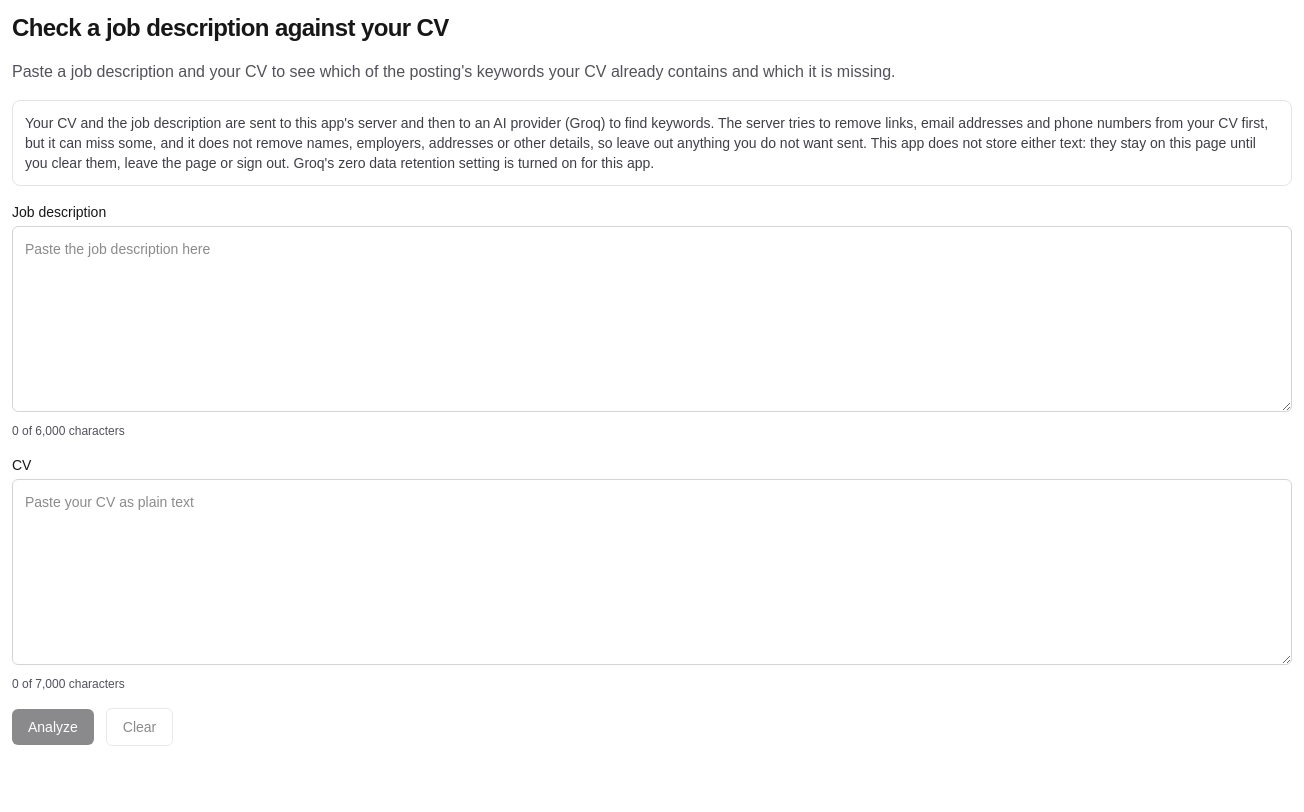
it: KeywordGapAnalyzer: a successful analysis › sends both texts and shows the overlap, missing keywords first, Required before Preferred
Click the text box labelled "Job description": [652, 319] box [12,226,1292,412]
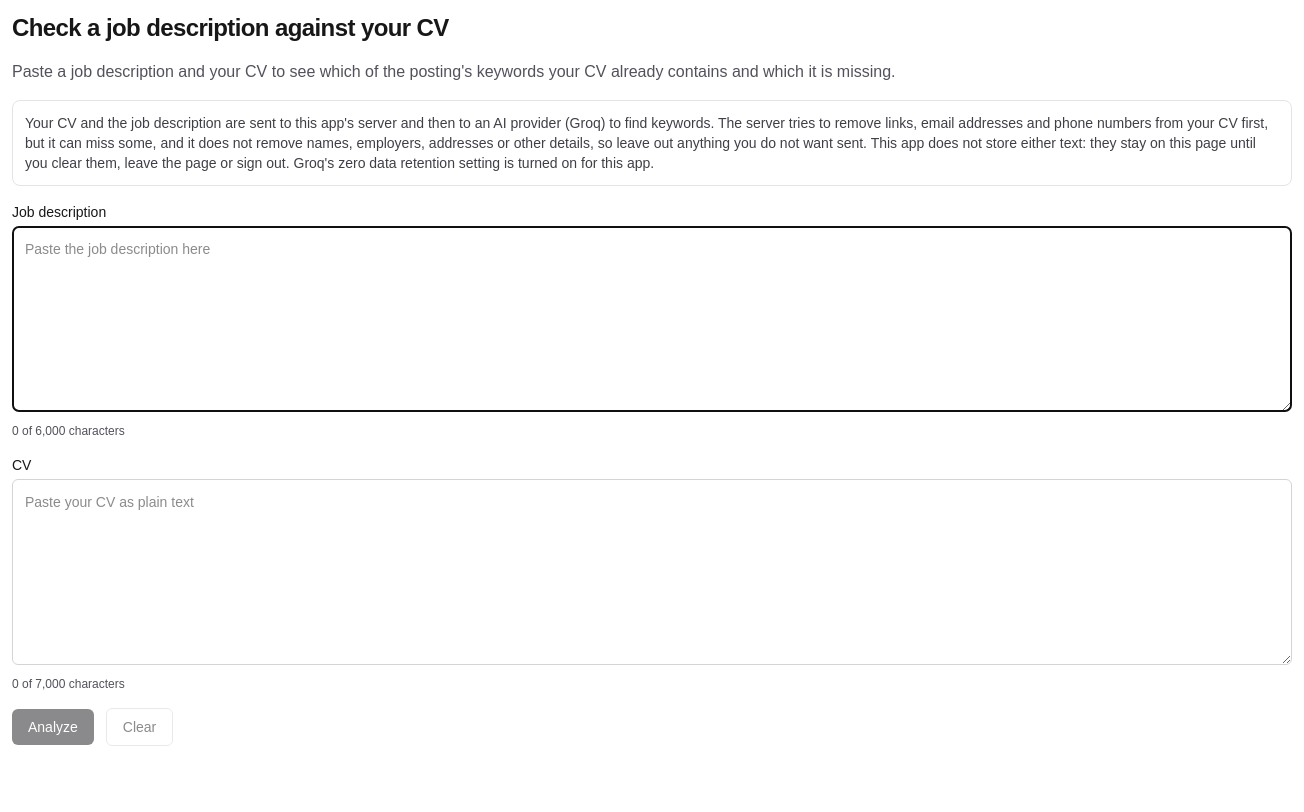
Type keys "Acme Example Ltd is hiring a Frontend Engineer. Required: React, TypeScript, REST APIs, Git and GraphQL. Preferred: Docker and Kubernetes."
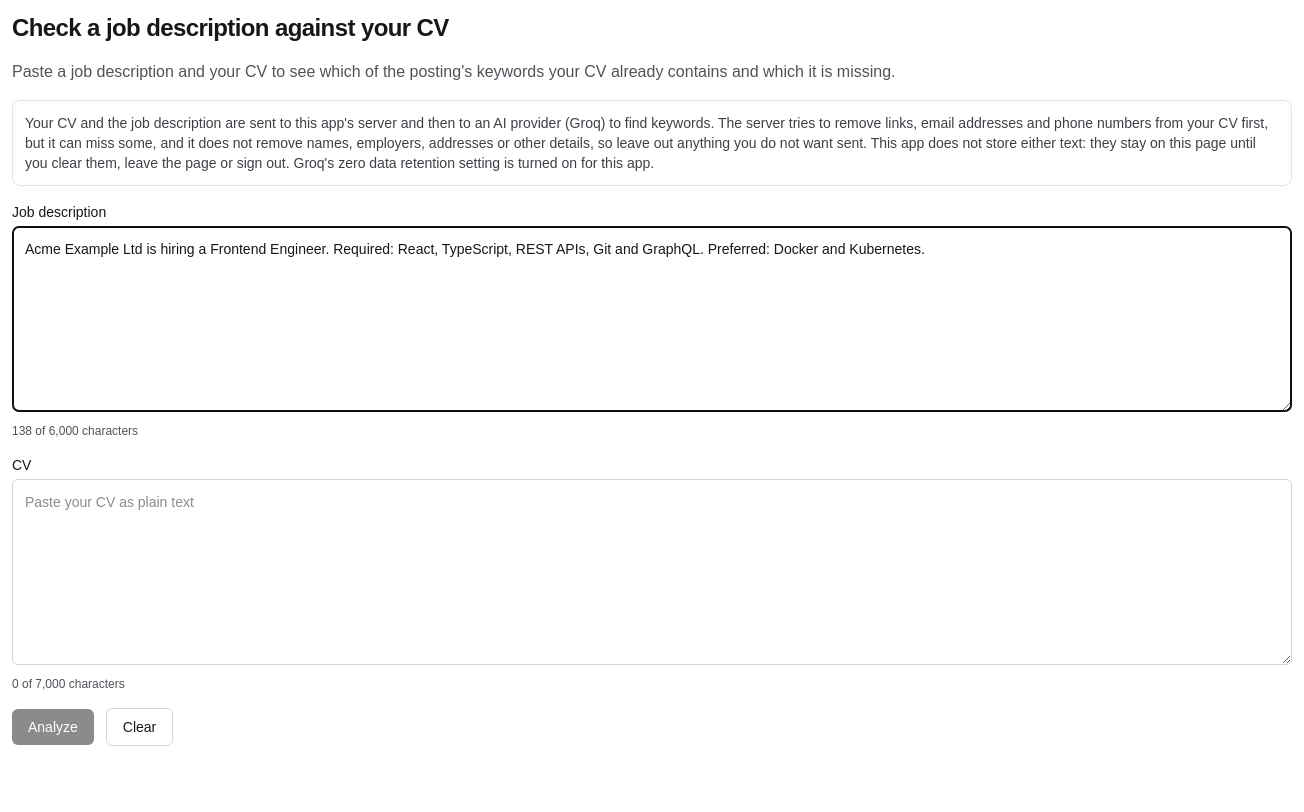
Click the text box labelled "CV": [652, 572] box [12,479,1292,665]
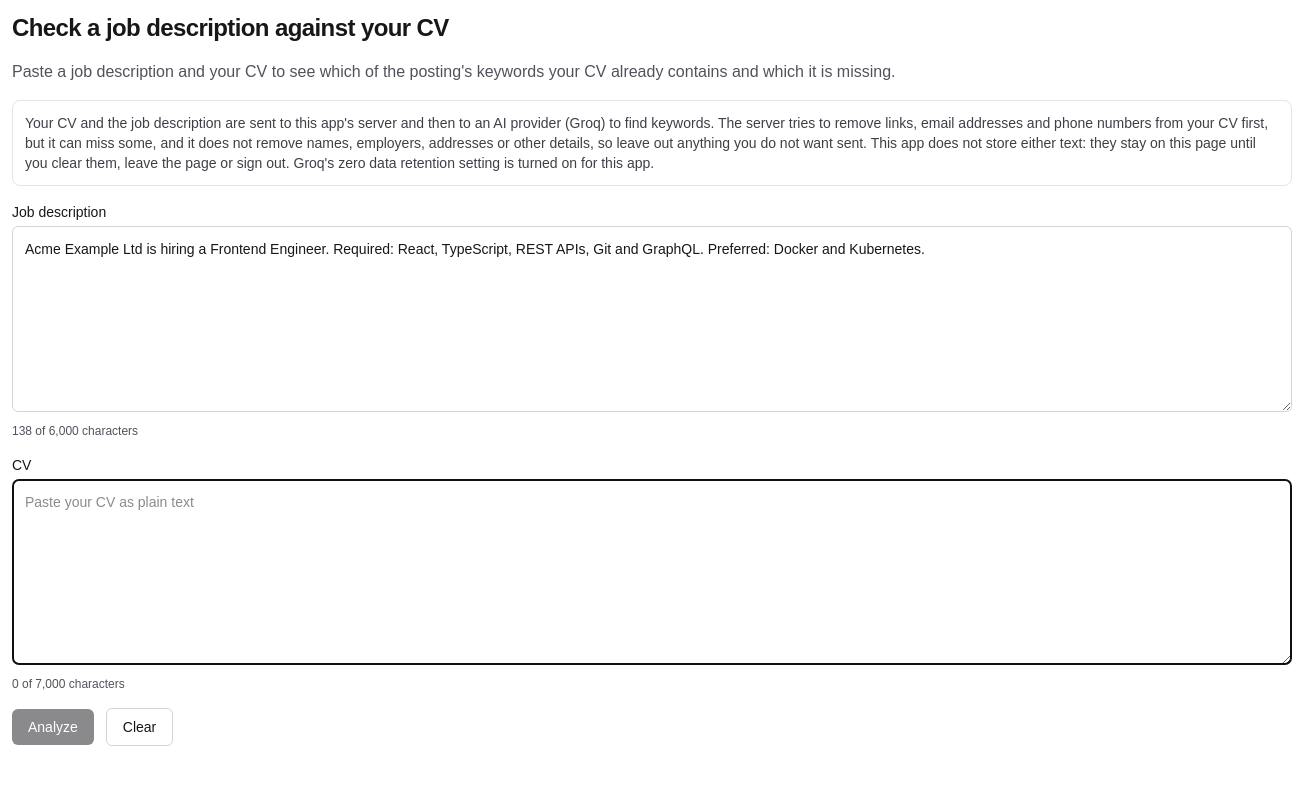
Type keys "Jane Example. Frontend developer. Built single-page apps with React and TypeScript, consumed REST APIs and used Git every day."
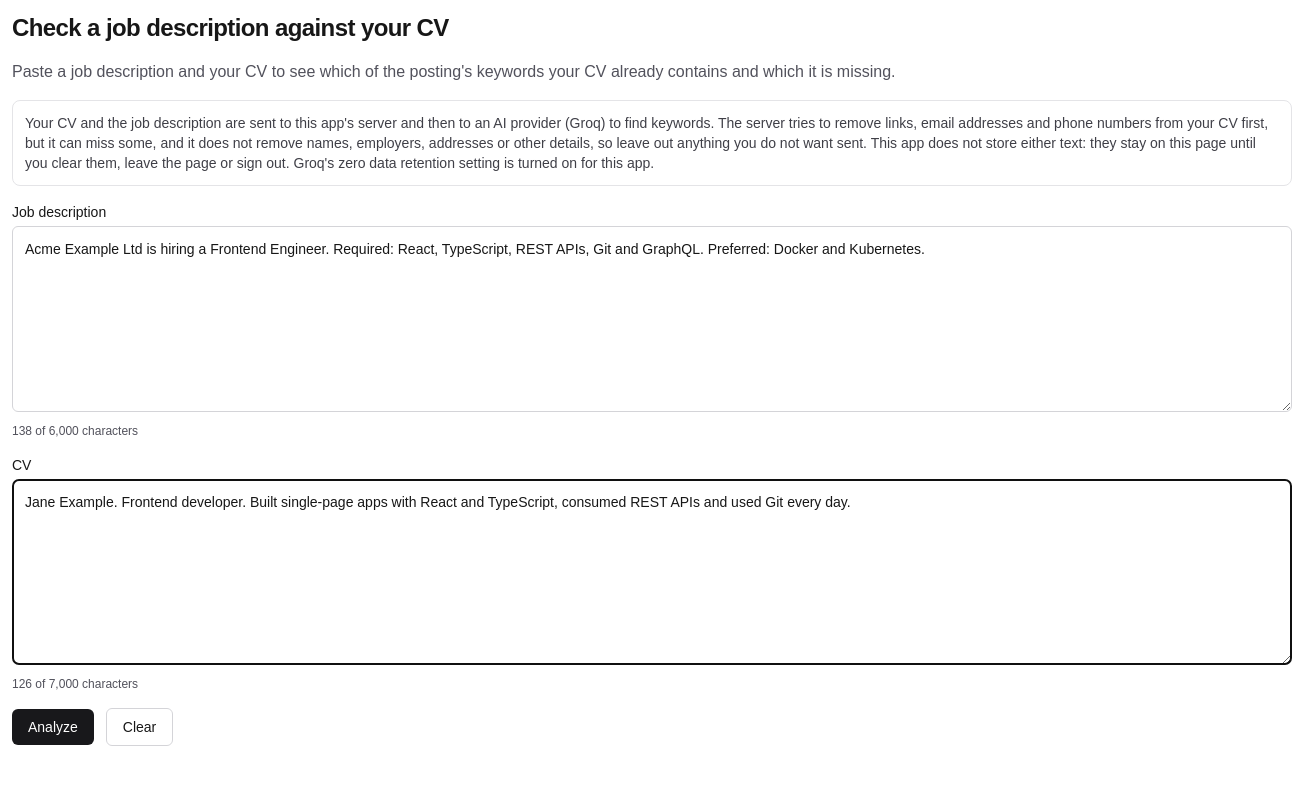
Click the button "Analyze": [53, 727] box [12,709,94,745]
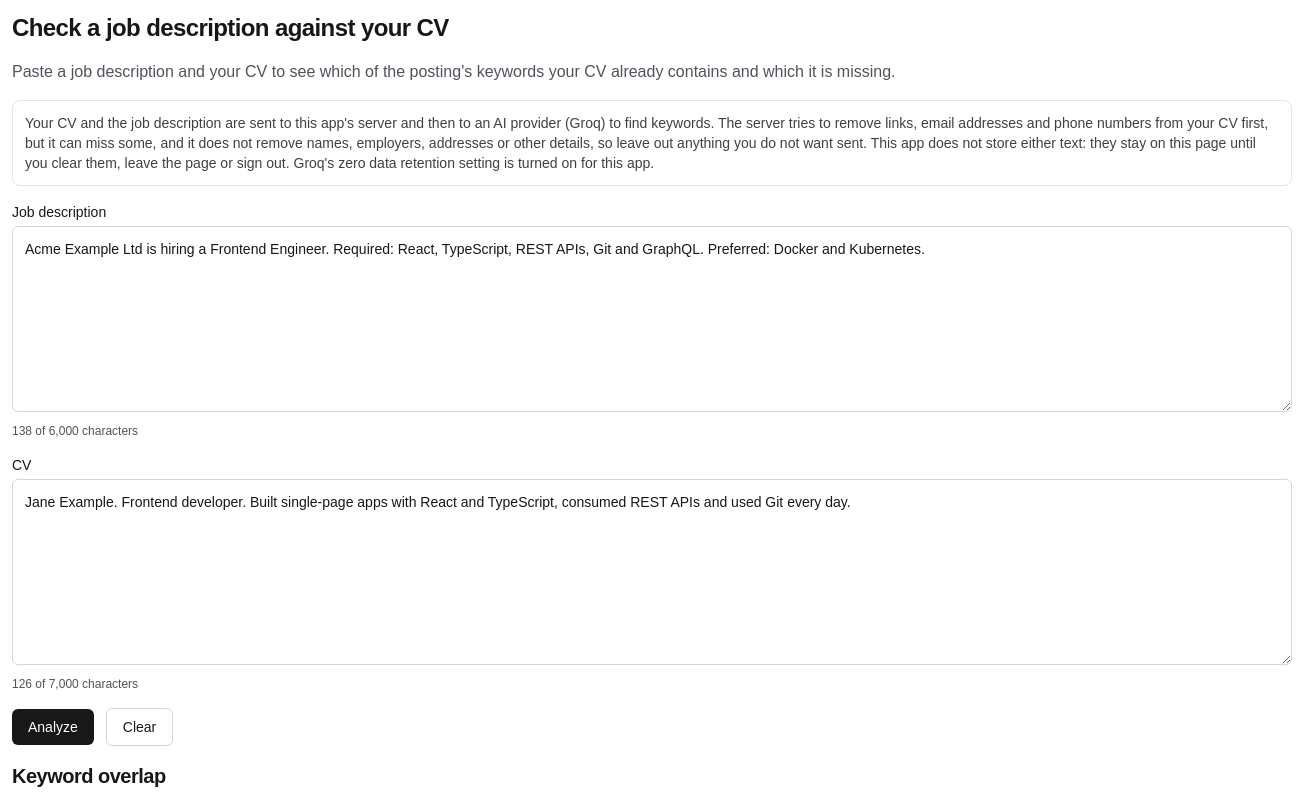
Check: the button "Analyze" is enabled, box [12,709,94,745]
Check: the heading "Keyword overlap" is shown, box [12,765,166,787]
